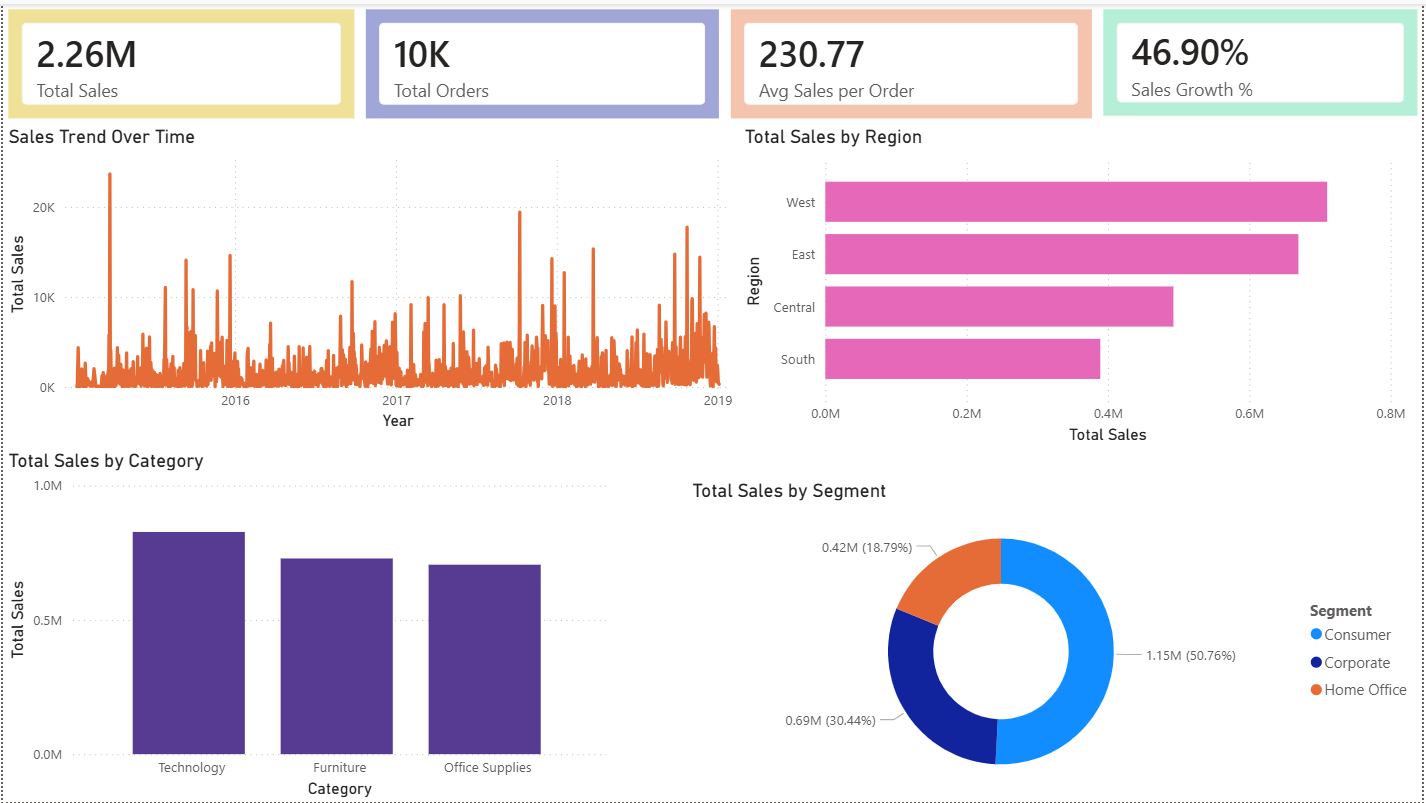

What the dashboard file says about the page in this screenshot:
{"tool":"powerbi","page":{"name":"Page 1","canvas":[1280,720],"ordinal":0},"visuals":[{"type":"cardVisual","fields":{"Data":["train.Total Sales"]},"box":[0,0,322.8,108.8],"z":0},{"type":"cardVisual","fields":{"Data":["train.Total Orders"]},"box":[322.8,0,328.9,108.8],"z":1000},{"type":"cardVisual","fields":{"Data":["train.Avg Sales per Order"]},"box":[651.8,0,335.1,108.8],"z":2000},{"type":"lineChart","title":"Sales Trend Over Time","fields":{"Y":["train.Total Sales"],"Category":["train.Ship Date.Variation.Date Hierarchy.Year","train.Ship Date.Variation.Date Hierarchy.Quarter","train.Ship Date.Variation.Date Hierarchy.Month","train.Ship Date.Variation.Date Hierarchy.Day"]},"box":[0,108.8,664,280],"z":3000},{"type":"clusteredColumnChart","fields":{"Category":["train.Category"],"Y":["train.Total Sales"]},"box":[0,401.1,549.1,319.2],"z":4000},{"type":"clusteredBarChart","fields":{"Category":["train.Region"],"Y":["train.Total Sales"]},"box":[664,108.8,606.5,292.3],"z":5000},{"type":"donutChart","fields":{"Category":["train.Segment"],"Y":["train.Total Sales"]},"box":[616.3,428,664,292.3],"z":6000},{"type":"cardVisual","fields":{"Data":["train.Sales Growth %"]},"box":[986.8,0,293.5,106.4],"z":7000}]}

Visuals, with their boxes in screenshot pixels (x1, y1, x2, y2), scaled from the page's 1280x720 canvas onto the 1426x803 screenshot:
cardVisual - train.Total Sales: BBox(0, 0, 360, 121)
cardVisual - train.Total Orders: BBox(360, 0, 726, 121)
cardVisual - train.Avg Sales per Order: BBox(726, 0, 1099, 121)
"Sales Trend Over Time" lineChart: BBox(0, 121, 740, 434)
clusteredColumnChart - train.Category x train.Total Sales: BBox(0, 447, 612, 802)
clusteredBarChart - train.Region x train.Total Sales: BBox(740, 121, 1415, 447)
donutChart - train.Segment x train.Total Sales: BBox(687, 477, 1425, 802)
cardVisual - train.Sales Growth %: BBox(1099, 0, 1425, 119)
